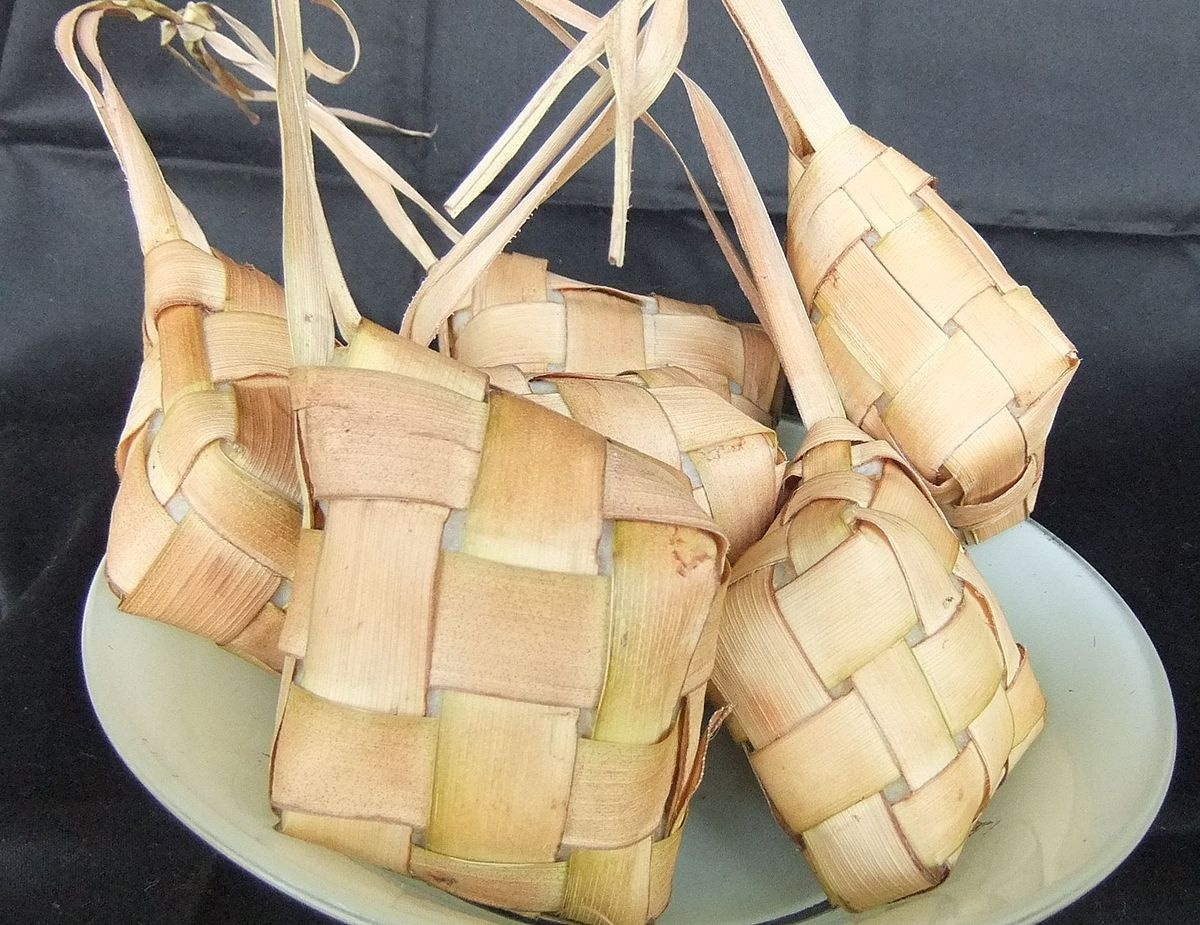ketupat: (265, 319, 725, 919), (702, 430, 1046, 912)
